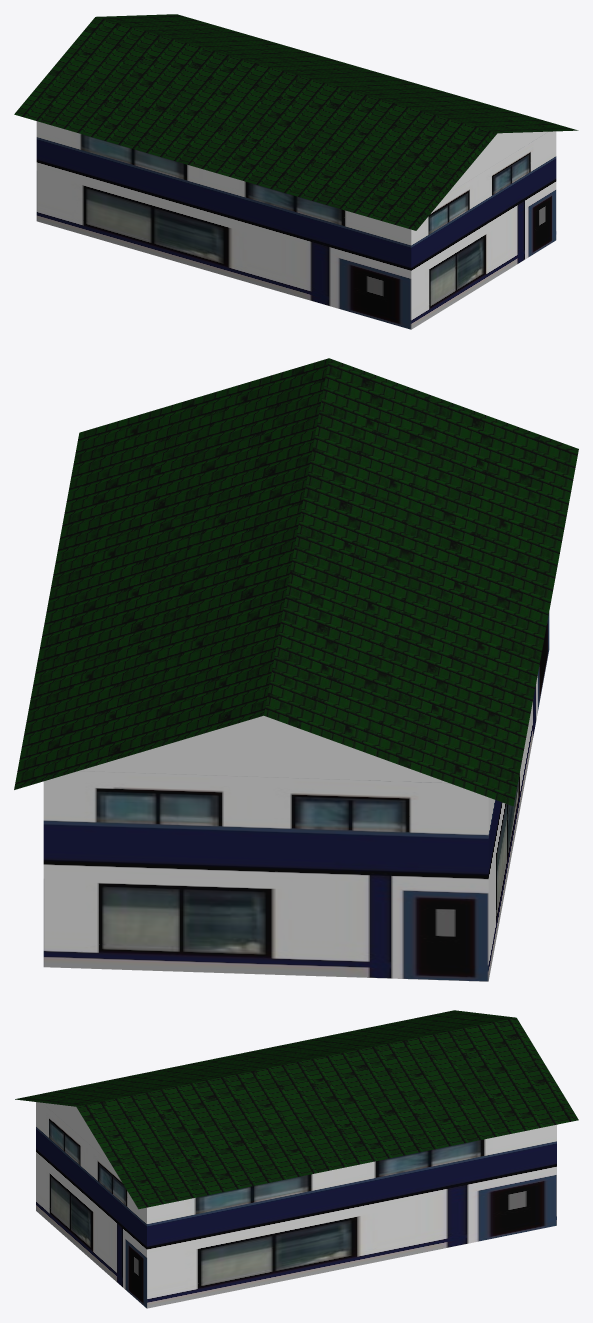
3 renders of one model, top to bottom at view 1: azimuth 30°, elevation 25°; view 2: azimuth 150°, elevation 25°; view 3: azimuth 270°, elevation 25°, orthographic. The views are drawn at different scales.
Visible parts, largest first — view 1: CityEngineMaterial_13_m, CityEngineMaterial_2_m, CityEngineMaterial_3_m; view 2: CityEngineMaterial_13_m, CityEngineMaterial_2_m, CityEngineMaterial_3_m; view 3: CityEngineMaterial_13_m, CityEngineMaterial_2_m, CityEngineMaterial_3_m.
Boxes of the visible parts, left/top/right/bottom form: CityEngineMaterial_13_m: left=14, top=14, right=578, bottom=230; CityEngineMaterial_2_m: left=36, top=121, right=556, bottom=329; CityEngineMaterial_3_m: left=447, top=131, right=547, bottom=193; CityEngineMaterial_13_m: left=14, top=358, right=578, bottom=806; CityEngineMaterial_2_m: left=43, top=612, right=549, bottom=981; CityEngineMaterial_3_m: left=79, top=715, right=447, bottom=782; CityEngineMaterial_13_m: left=15, top=1010, right=578, bottom=1209; CityEngineMaterial_2_m: left=36, top=1102, right=556, bottom=1308; CityEngineMaterial_3_m: left=42, top=1102, right=109, bottom=1161.
Size of the model in its own units: 28.11 by 10.27 by 33.72.
